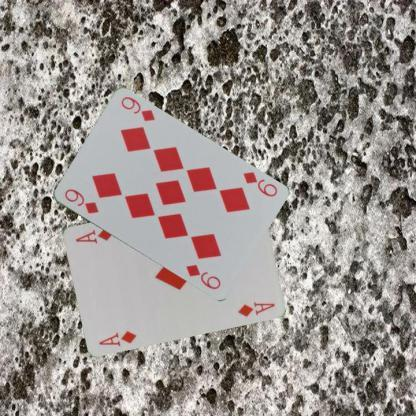9d: (61, 186, 100, 216), (240, 168, 278, 198)
Ad: (96, 328, 138, 347)
